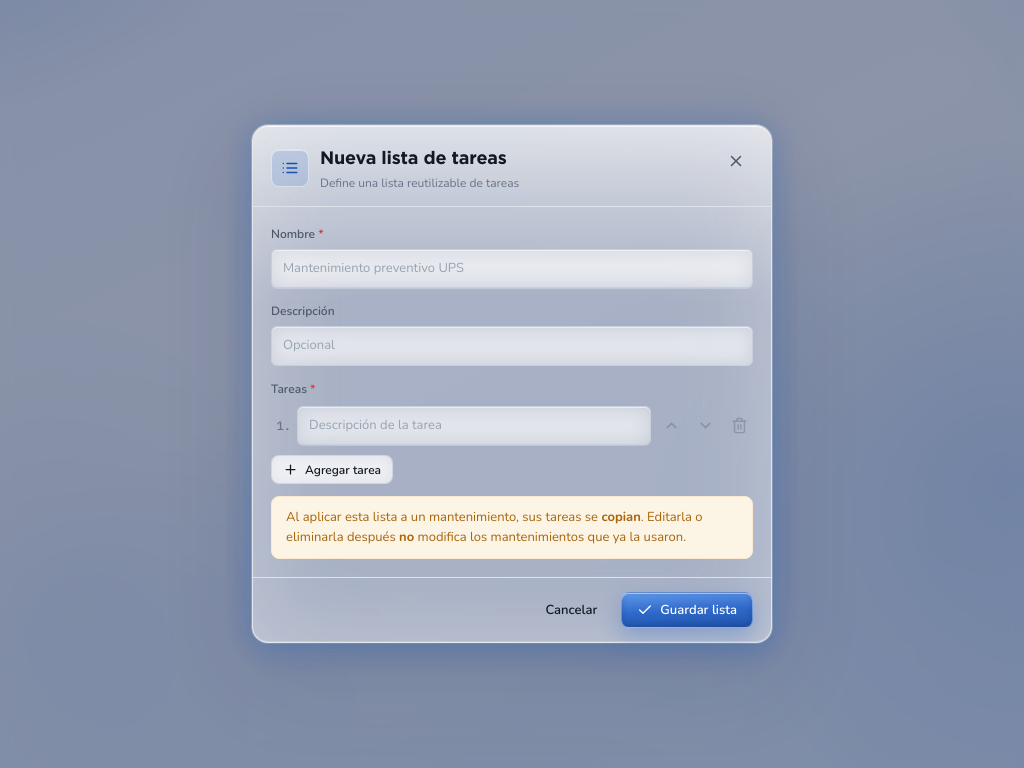
ChecklistTemplateFormModal › validacion › marca las tareas repetidas dentro de la lista y no envia
In the field with placeholder "Mantenimiento preventivo UPS": (512, 269) left=271, top=249, right=753, bottom=288, type "Lista"
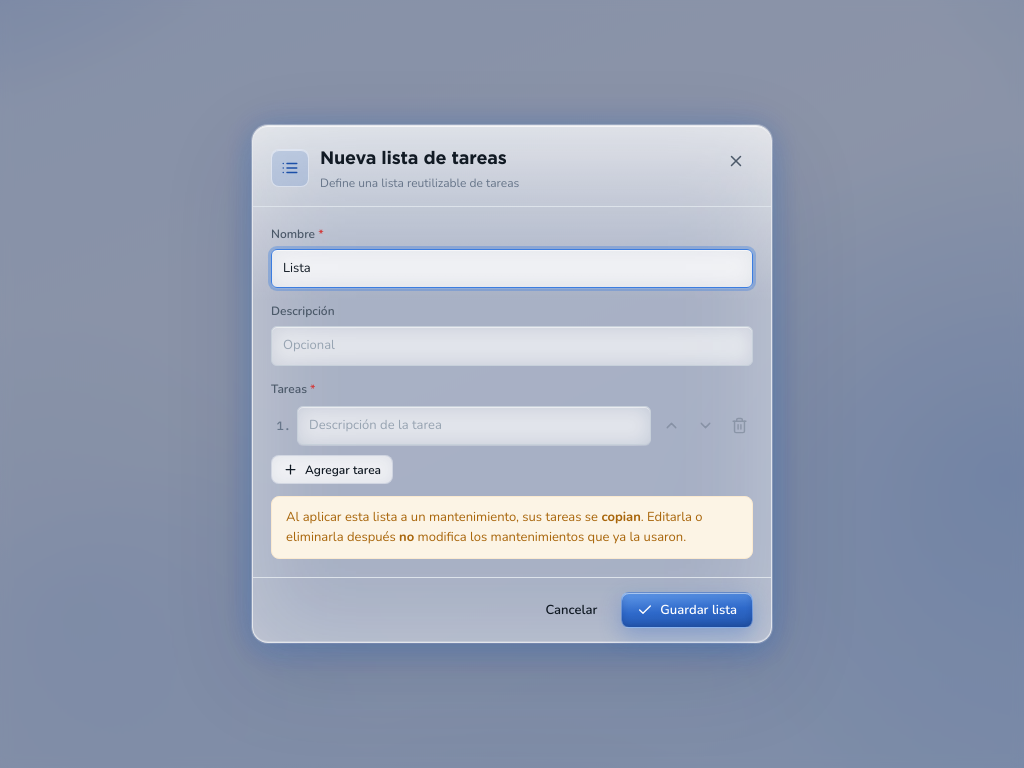
In the field with placeholder "Descripción de la tarea": (474, 426) left=297, top=406, right=651, bottom=445, type "Revisar baterías"
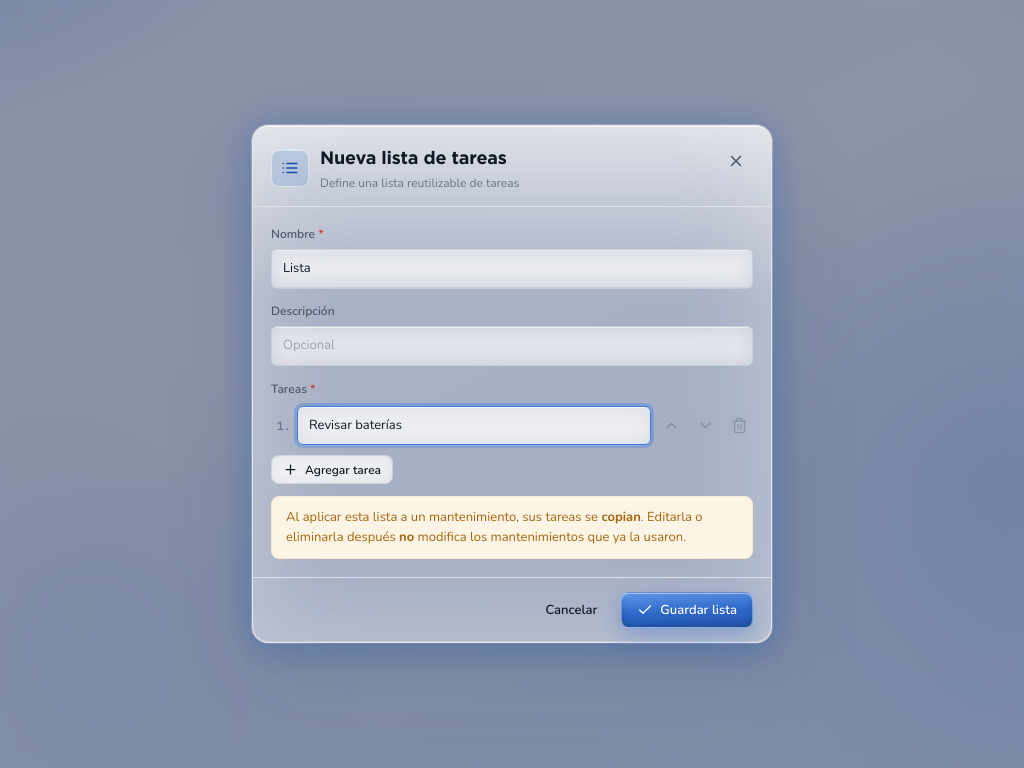
Click the button "Agregar tarea": (332, 470) left=271, top=455, right=393, bottom=484
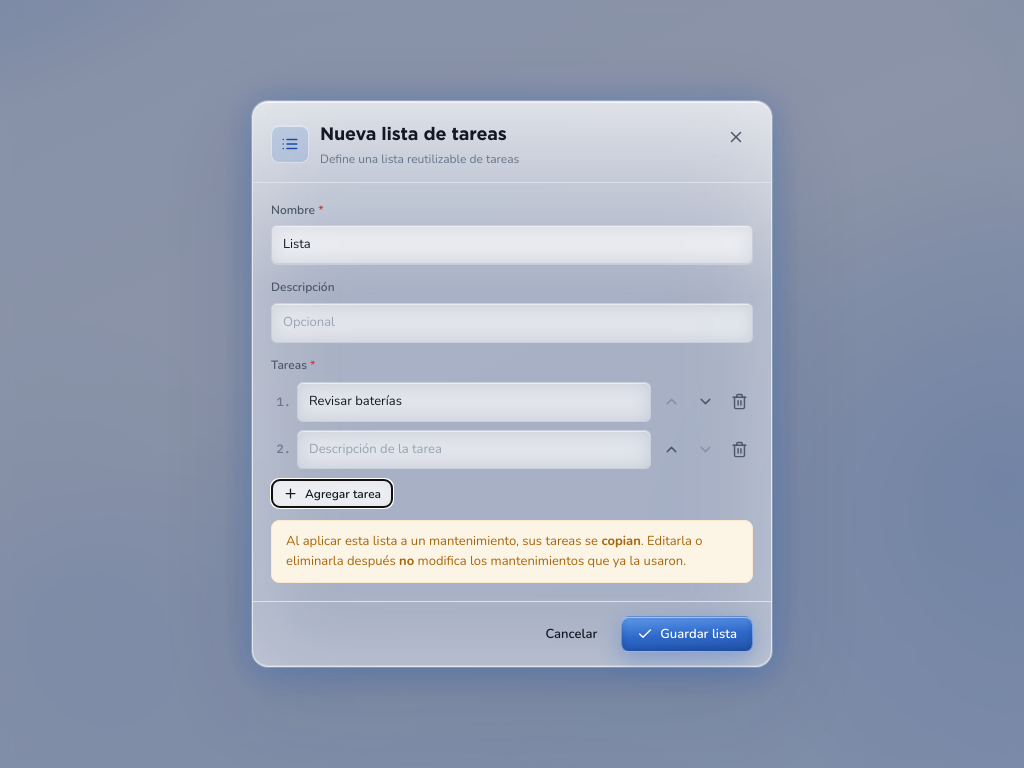
// Mismo texto con espacios y mayusculas distintas: duplicado.
In the field with placeholder "Descripción de la tarea": (474, 449) left=297, top=430, right=651, bottom=469, type "  REVISAR   baterías  "
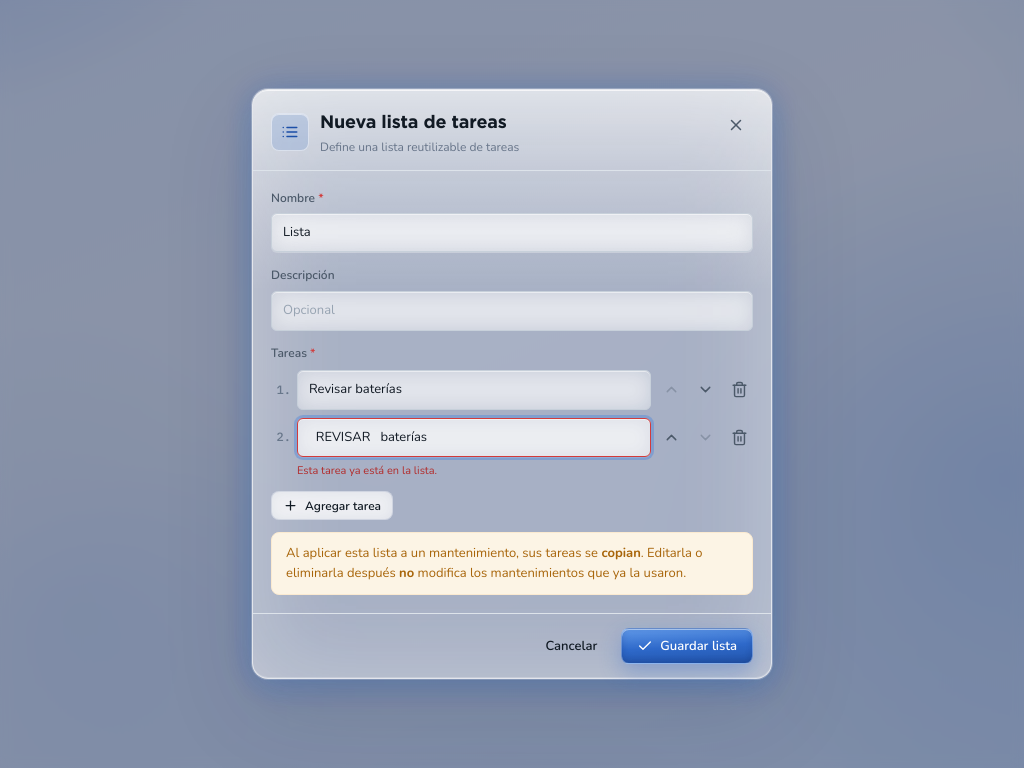
Check: the text "Esta tarea ya está en la lista." is shown, box left=297, top=463, right=437, bottom=478
Click the button "Guardar lista": (687, 646) left=621, top=628, right=753, bottom=664
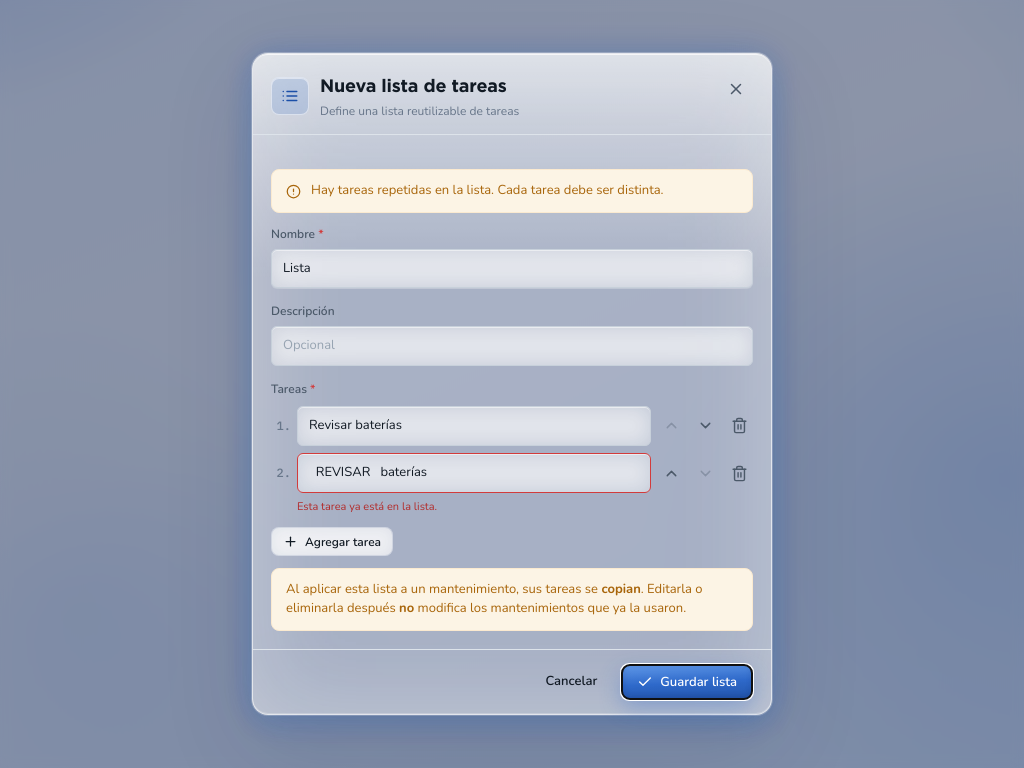
Check: the text "Hay tareas repetidas en la lista" is shown, box left=311, top=181, right=664, bottom=199
